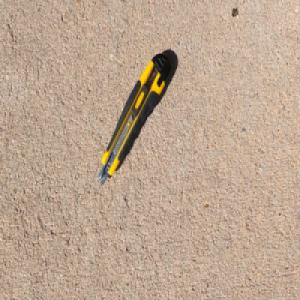Cutter: (97, 51, 172, 186)
